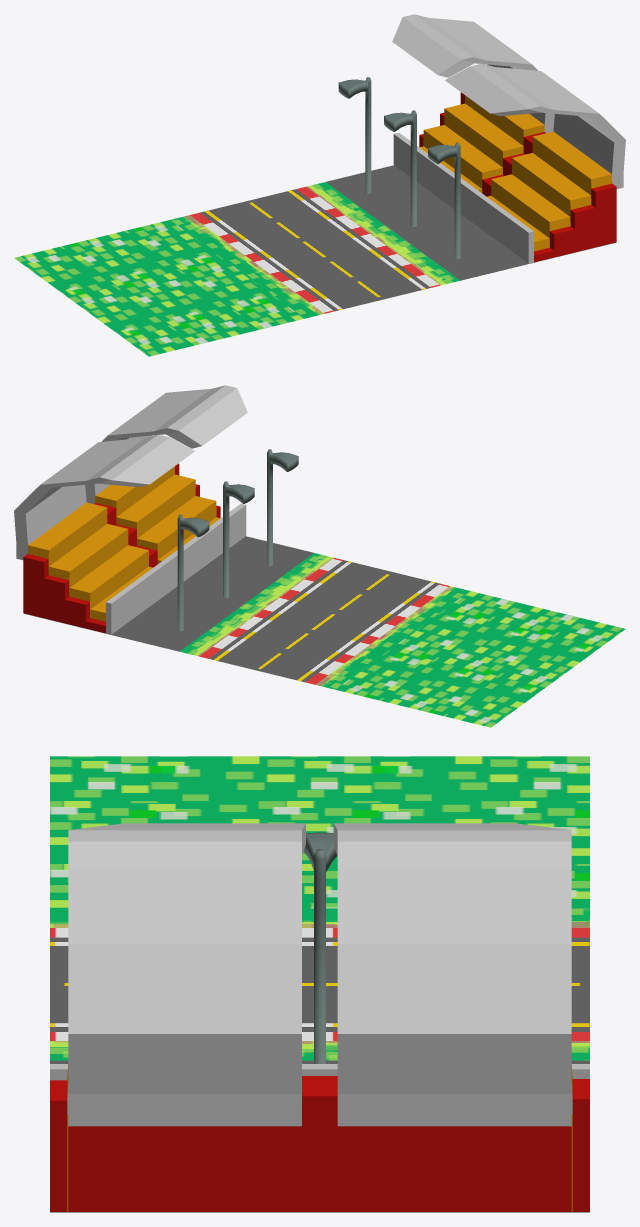
The model's file is Mapa.fbx.
The picture shows the model from 3 angles, top to bottom: view 1: azimuth 30°, elevation 25°; view 2: azimuth 150°, elevation 25°; view 3: azimuth 270°, elevation 25°; orthographic projection. The views are drawn at different scales.
Visible parts, largest first — view 1: Asientos, Plane.002, Plane, Plane.001, Cylinder; view 2: Asientos, Plane.002, Plane, Plane.001, Cylinder; view 3: Asientos, Plane.002, Plane, Cylinder, Plane.001.
Part boxes in pixels (x1,y1,x2,y2): Asientos: (392, 14, 625, 263); Plane.002: (14, 220, 304, 356); Plane: (170, 182, 459, 318); Plane.001: (326, 165, 615, 280); Cylinder: (338, 77, 460, 259); Asientos: (14, 385, 247, 634); Plane.002: (335, 591, 625, 727); Plane: (180, 553, 469, 689); Plane.001: (24, 536, 313, 651); Cylinder: (177, 449, 298, 631); Asientos: (50, 823, 589, 1211); Plane.002: (50, 756, 589, 908); Plane: (50, 908, 589, 1060); Cylinder: (303, 832, 337, 1063); Plane.001: (50, 1060, 589, 1212).
Size of the model in its own units: 6180 by 1845 by 3000.
